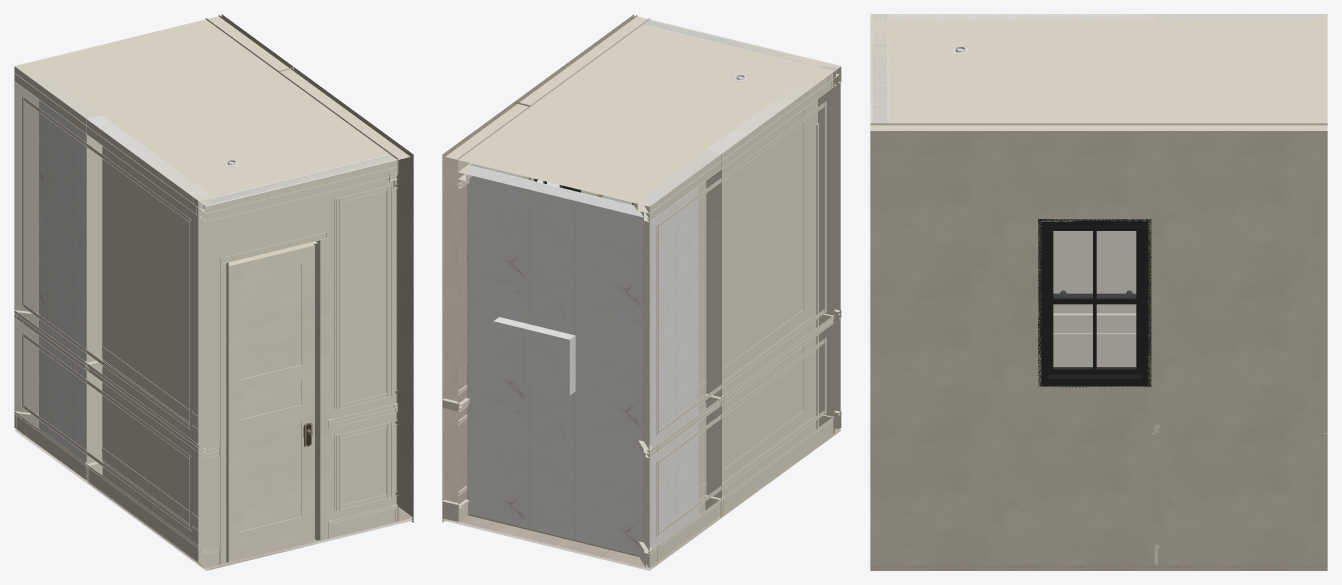
The model's file is loli-bathroom-4b307f9072b5.glb.
The picture shows the model from 3 angles, left to right: view 1: azimuth 30°, elevation 25°; view 2: azimuth 150°, elevation 25°; view 3: azimuth 270°, elevation 25°; orthographic projection. The views are drawn at different scales.
Parts seen in each view (by area): view 1: loli-bathroom-2575515a05775d9e, loli-bathroom-03bdd0165789d12b, loli-bathroom-0e637d2be41161fb, loli-bathroom-eceff908bd344cec, loli-bathroom-5795d1714989146e, loli-bathroom-e64cabe238f3e83a, loli-bathroom-319244b3406409d9, loli-bathroom-4a0606b58a607568, loli-bathroom-a8b6749dbb482e83, loli-bathroom-609bc1027670cc96, loli-bathroom-cc15fd6f291c811e, loli-bathroom-e2dd6cf138a61c96 (+19 smaller); view 2: loli-bathroom-51561c1911f47dcb, loli-bathroom-2575515a05775d9e, loli-bathroom-03bdd0165789d12b, loli-bathroom-5795d1714989146e, loli-bathroom-1c7325212038a6e7, loli-bathroom-e462de76b61e99cf, loli-bathroom-a90dd75c175210c7, loli-bathroom-0e637d2be41161fb, loli-bathroom-e64cabe238f3e83a, loli-bathroom-a8b6749dbb482e83, loli-bathroom-cc15fd6f291c811e, loli-bathroom-92c333610bf7beb4 (+13 smaller); view 3: loli-bathroom-319244b3406409d9, loli-bathroom-e462de76b61e99cf, loli-bathroom-2575515a05775d9e, loli-bathroom-15d1eb52c435a27e, loli-bathroom-03bdd0165789d12b, loli-bathroom-0e637d2be41161fb, loli-bathroom-3b0077416469e01b, loli-bathroom-76fec1e12e3db62a, loli-bathroom-1c7325212038a6e7, loli-bathroom-3b79cb6a0eb20f8c, loli-bathroom-687fd4d2e321b111.
Part boxes in pixels (box(x1,y1,x2,y2)): loli-bathroom-2575515a05775d9e: box(14, 15, 410, 201); loli-bathroom-03bdd0165789d12b: box(86, 115, 209, 560); loli-bathroom-0e637d2be41161fb: box(198, 154, 397, 568); loli-bathroom-eceff908bd344cec: box(228, 244, 314, 560); loli-bathroom-5795d1714989146e: box(39, 100, 86, 462); loli-bathroom-e64cabe238f3e83a: box(14, 78, 38, 428); loli-bathroom-319244b3406409d9: box(278, 67, 413, 521); loli-bathroom-4a0606b58a607568: box(318, 237, 328, 540); loli-bathroom-a8b6749dbb482e83: box(14, 412, 199, 562); loli-bathroom-609bc1027670cc96: box(206, 160, 398, 221); loli-bathroom-cc15fd6f291c811e: box(14, 67, 199, 216); loli-bathroom-e2dd6cf138a61c96: box(220, 232, 326, 564); loli-bathroom-51561c1911f47dcb: box(467, 165, 642, 556); loli-bathroom-2575515a05775d9e: box(445, 15, 840, 206); loli-bathroom-03bdd0165789d12b: box(707, 86, 833, 482); loli-bathroom-5795d1714989146e: box(641, 187, 698, 549); loli-bathroom-1c7325212038a6e7: box(643, 150, 721, 567); loli-bathroom-e462de76b61e99cf: box(442, 102, 530, 502); loli-bathroom-a90dd75c175210c7: box(493, 317, 575, 395); loli-bathroom-0e637d2be41161fb: box(643, 19, 840, 433); loli-bathroom-e64cabe238f3e83a: box(458, 165, 649, 548); loli-bathroom-a8b6749dbb482e83: box(649, 417, 834, 567); loli-bathroom-cc15fd6f291c811e: box(649, 72, 834, 221); loli-bathroom-92c333610bf7beb4: box(656, 101, 826, 435); loli-bathroom-319244b3406409d9: box(870, 123, 1155, 565); loli-bathroom-e462de76b61e99cf: box(1155, 123, 1327, 565); loli-bathroom-2575515a05775d9e: box(870, 14, 1327, 132); loli-bathroom-15d1eb52c435a27e: box(1038, 219, 1151, 387); loli-bathroom-03bdd0165789d12b: box(889, 14, 1155, 366); loli-bathroom-0e637d2be41161fb: box(870, 14, 889, 123); loli-bathroom-3b0077416469e01b: box(870, 565, 1327, 567); loli-bathroom-76fec1e12e3db62a: box(870, 568, 1327, 570); loli-bathroom-1c7325212038a6e7: box(1155, 14, 1326, 21); loli-bathroom-3b79cb6a0eb20f8c: box(1053, 313, 1136, 323); loli-bathroom-687fd4d2e321b111: box(872, 14, 883, 123).
Bounding box in the file's own units: 1.8 × 3.05 × 2.88.
Materials: 42 (7 with a texture image).
